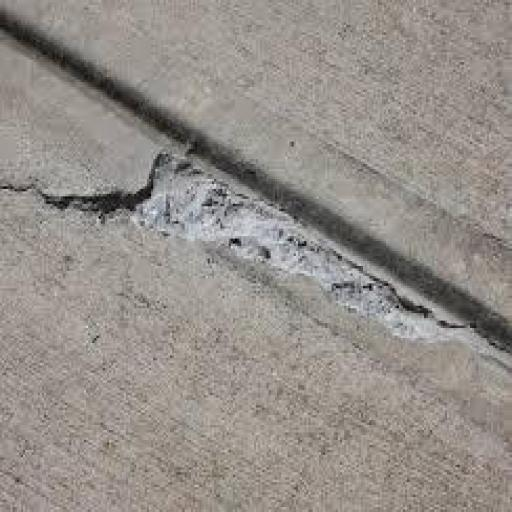spalling: (8, 141, 482, 351)
